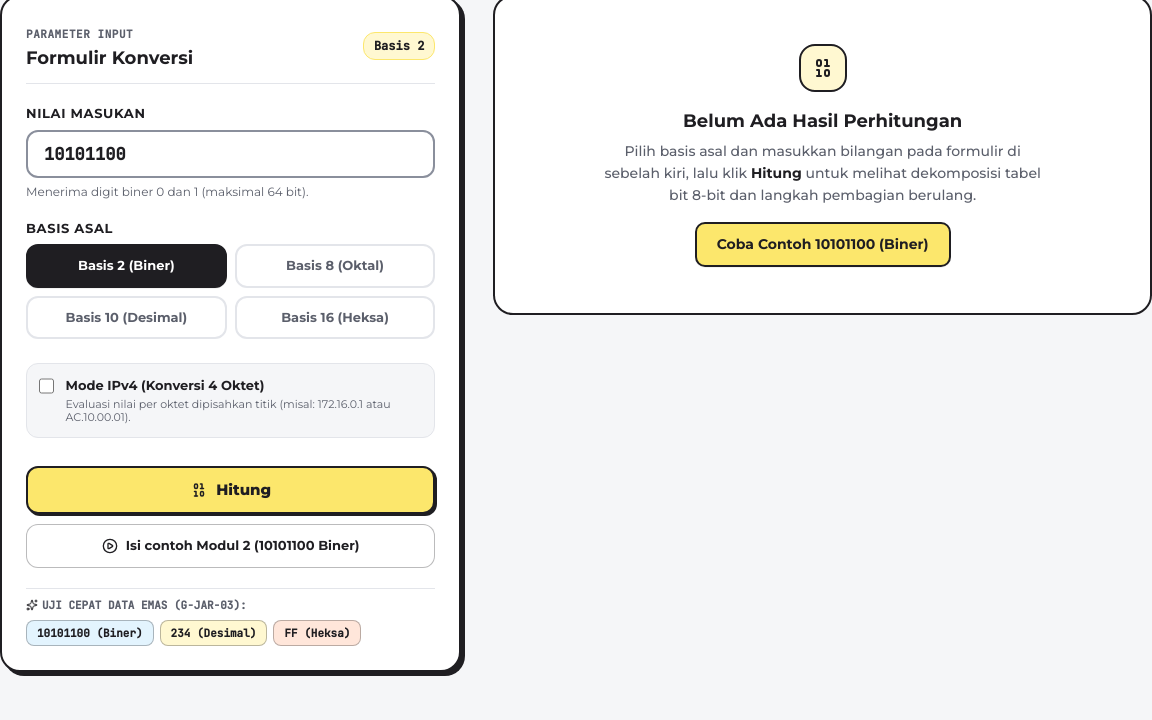
it: Halaman Konversi Basis › mengisi contoh Modul 2 (10101100 basis 2), merender hasil desimal 172, heksadesimal AC, dan tabel bit 128..1
The width and height of the screenshot is (1152, 720).
(page scrolled)
Note: Klik tombol Isi contoh Modul 2
What coordinates should you click on to do the following:
click the button "Isi contoh Modul 2 (10101100 Biner)"
I would click on:
 (231, 546)
Its box is [26,524,435,568].
(page scrolled)
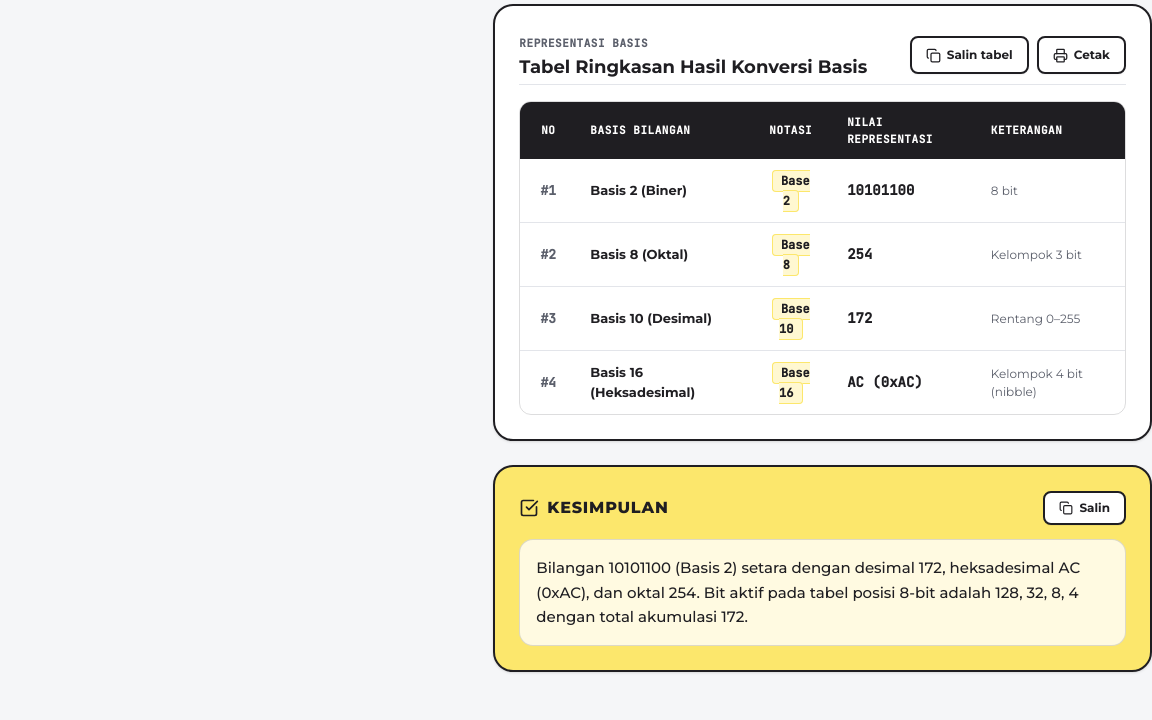
Now the heading "Tabel Ringkasan Hasil Konversi Basis" is shown, box [519,54,867,80]
Now the button "Salin tabel" is shown, box [910,36,1029,74]
Now the text "Bilangan 10101100 (Basis 2) setara dengan desimal 172" is shown, box [536,558,1080,626]
